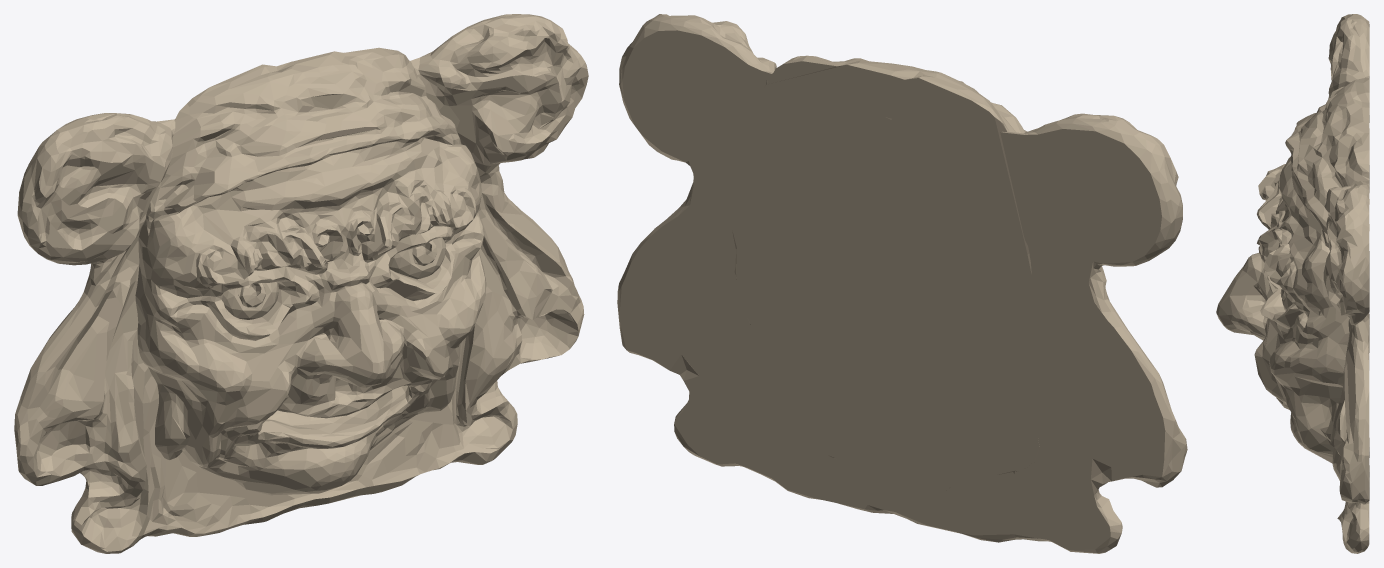
The model's file is Gargoyle_04.glb.
The picture shows the model from 3 angles, left to right: view 1: azimuth 30°, elevation 25°; view 2: azimuth 150°, elevation 25°; view 3: azimuth 270°, elevation 25°; orthographic projection. The views are drawn at different scales.
Parts seen in each view (by area): view 1: Gargoyle_04; view 2: Gargoyle_04; view 3: Gargoyle_04.
Part boxes in pixels (<box>): Gargoyle_04: <box>14,14,588,553</box>; Gargoyle_04: <box>617,14,1187,553</box>; Gargoyle_04: <box>1216,14,1369,553</box>.
Bounding box in the file's own units: 3.03 × 2.3 × 0.8449.
